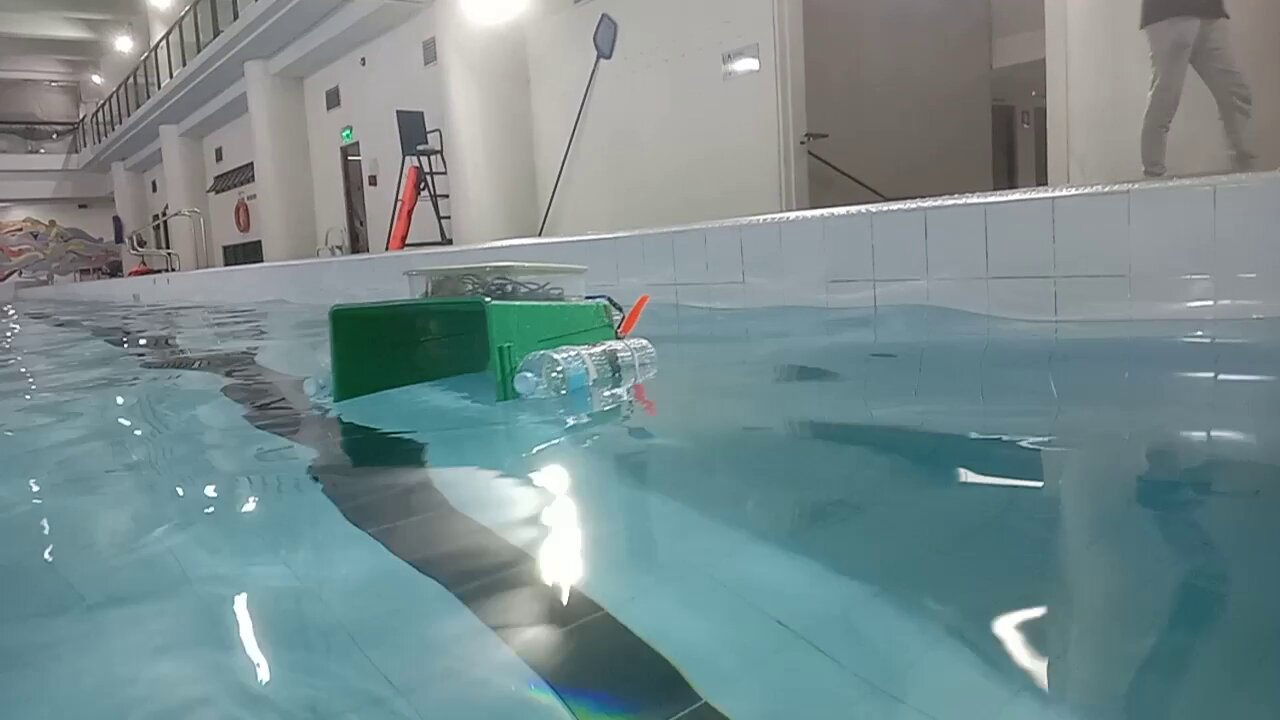drone: (300, 258, 659, 404)
